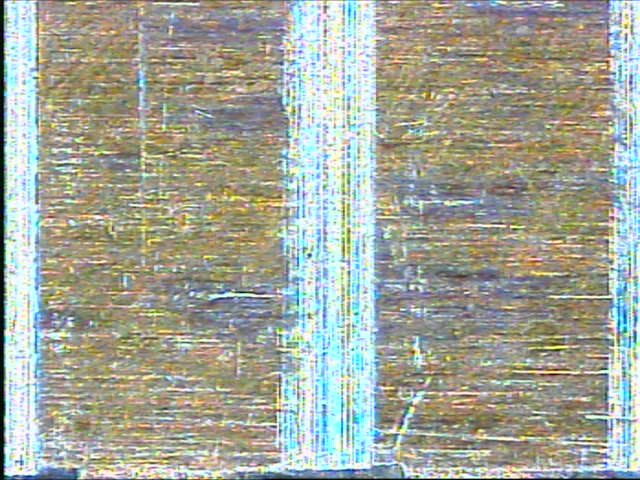line: (274, 1, 380, 469)
